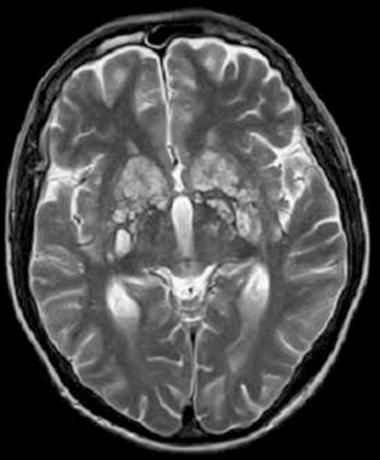Normal_Brain: (1, 6, 380, 460)
